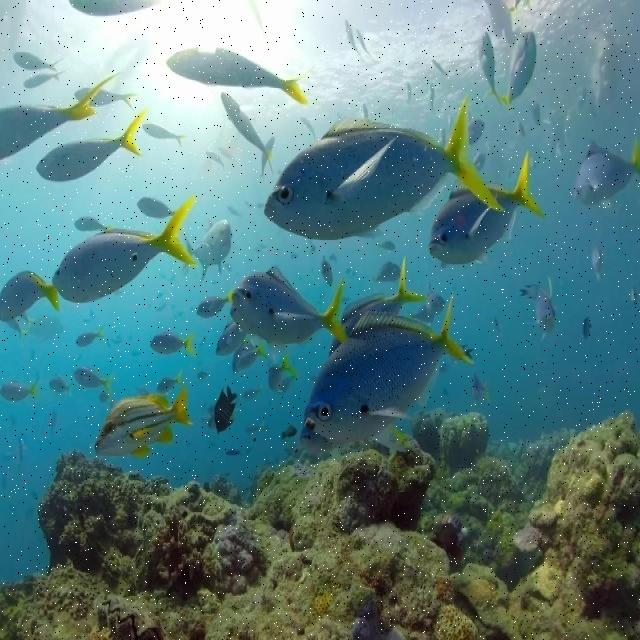fish: (265, 99, 505, 240), (302, 291, 474, 441), (51, 198, 197, 305), (431, 150, 543, 265), (0, 76, 118, 157), (231, 267, 344, 346), (35, 110, 149, 180), (165, 47, 308, 102), (96, 384, 189, 460), (574, 139, 639, 207), (220, 93, 271, 170), (0, 269, 57, 323), (186, 221, 230, 284), (500, 34, 536, 107), (152, 332, 196, 361), (216, 384, 239, 437)
